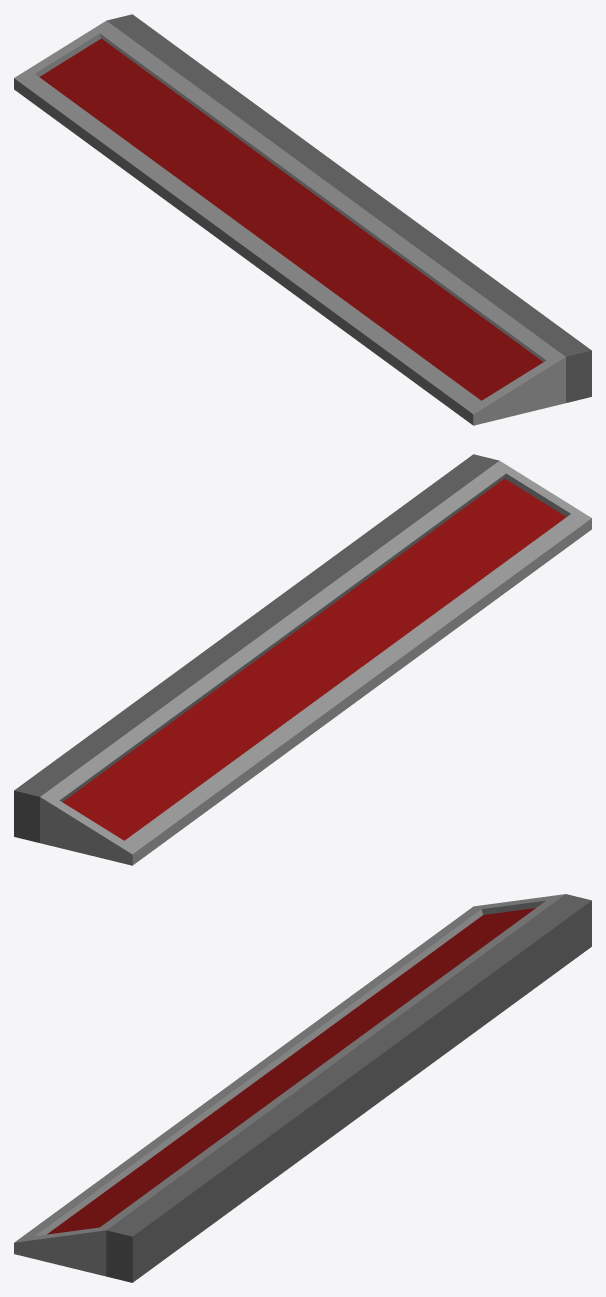
The model's file is Road_Deco_01.FBX.
3 renders of one model, top to bottom at view 1: azimuth 30°, elevation 25°; view 2: azimuth 150°, elevation 25°; view 3: azimuth 330°, elevation 25°, orthographic.
Parts seen in each view (by area): view 1: Road_Deco_01_LOD0; view 2: Road_Deco_01_LOD0; view 3: Road_Deco_01_LOD0.
Boxes of the visible parts, x1,y1,x2,y2 form: Road_Deco_01_LOD0: (14, 14, 591, 425); Road_Deco_01_LOD0: (14, 454, 591, 865); Road_Deco_01_LOD0: (14, 894, 591, 1282).
Size of what is drawn, in the model's own units: 26.8 by 10 by 180.
